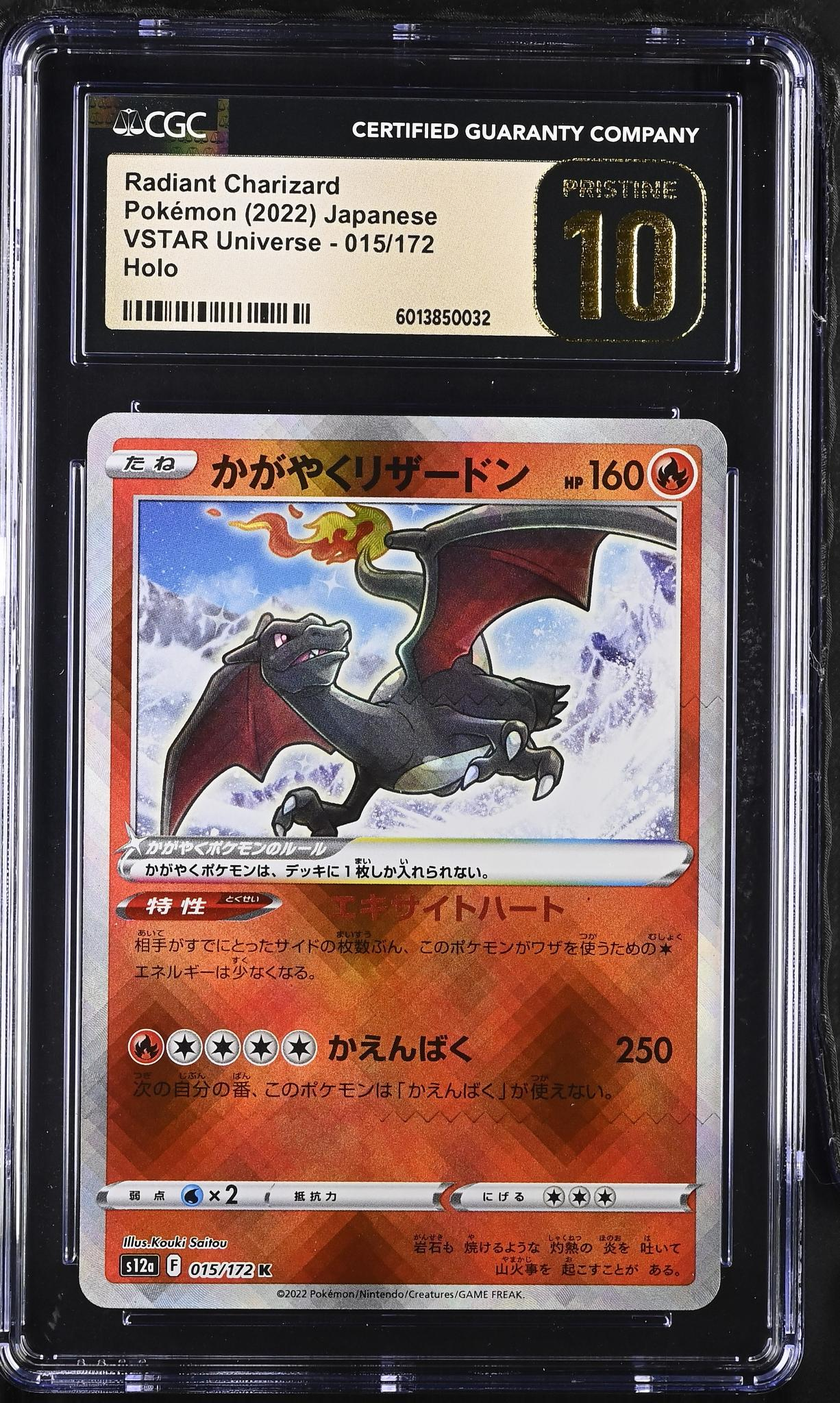card-2UtV: (79, 412, 727, 1311)
